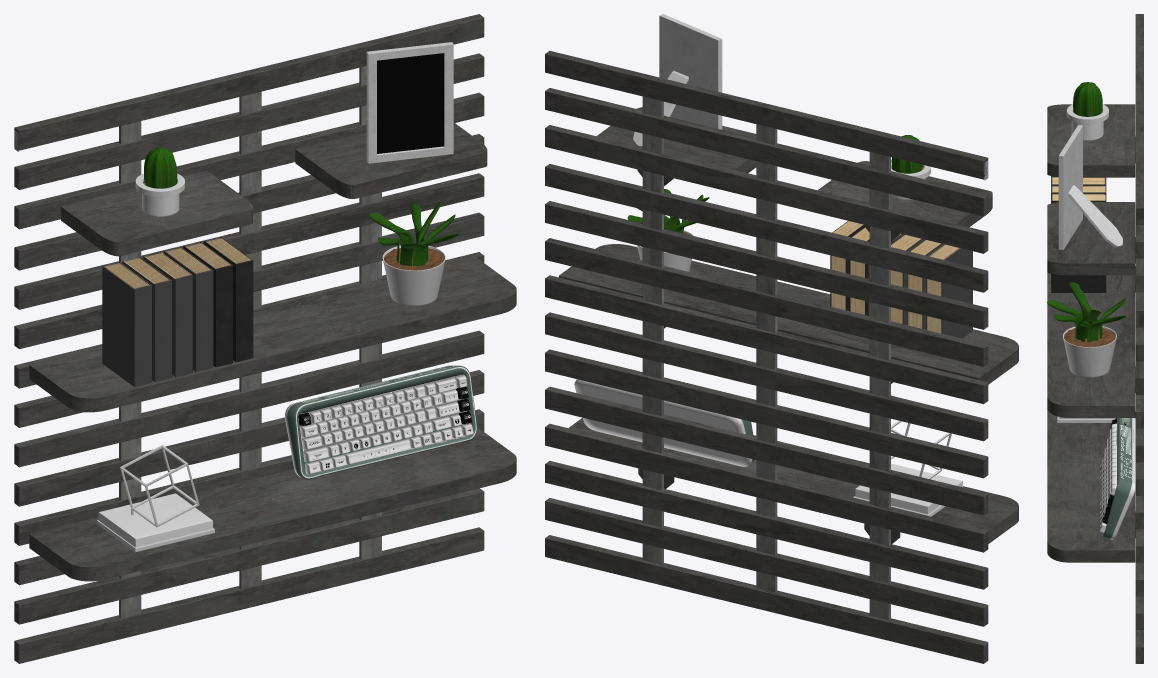
Rendered from modern_wall_shelves.glb.
3 renders of one model, left to right at view 1: azimuth 30°, elevation 25°; view 2: azimuth 150°, elevation 25°; view 3: azimuth 270°, elevation 25°, orthographic. The views are drawn at different scales.
Visible parts, largest first — view 1: Shelves, Books, Keyboard, Frame, Cube, Plant, Cactus; view 2: Shelves, Books, Frame, Keyboard, Cube, Plant; view 3: Shelves, Plant, Keyboard, Frame, Cactus, Books, Cube.
Part boxes in pixels (box(x1,y1,x2,y2)): Shelves: box(14, 14, 516, 663); Books: box(102, 237, 253, 386); Keyboard: box(285, 365, 476, 479); Frame: box(366, 42, 453, 163); Cube: box(96, 445, 214, 552); Plant: box(368, 201, 458, 305); Cactus: box(135, 147, 184, 216); Shelves: box(545, 50, 1018, 663); Books: box(830, 221, 972, 338); Frame: box(633, 14, 722, 146); Keyboard: box(574, 379, 754, 466); Cube: box(853, 420, 962, 516); Plant: box(627, 189, 709, 271); Shelves: box(1047, 14, 1143, 663); Plant: box(1047, 282, 1126, 377); Keyboard: box(1099, 418, 1135, 539); Frame: box(1058, 125, 1122, 249); Cactus: box(1066, 82, 1108, 140); Books: box(1051, 176, 1106, 292); Cube: box(1057, 416, 1115, 422).
Bounding box in the file's own units: 2.48 × 2.84 × 0.5222.
Materials: 6 (6 with a texture image).
